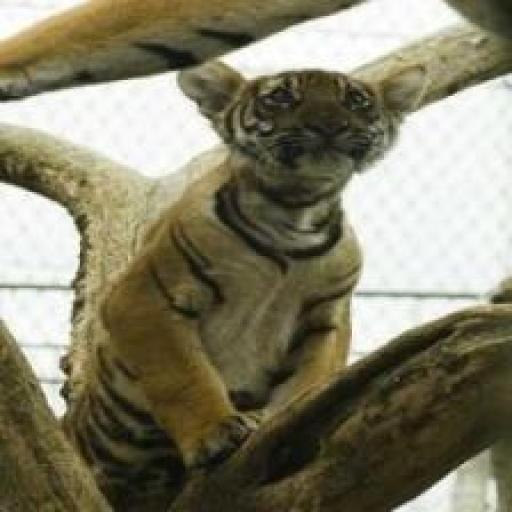Tiger: (44, 55, 444, 476)
